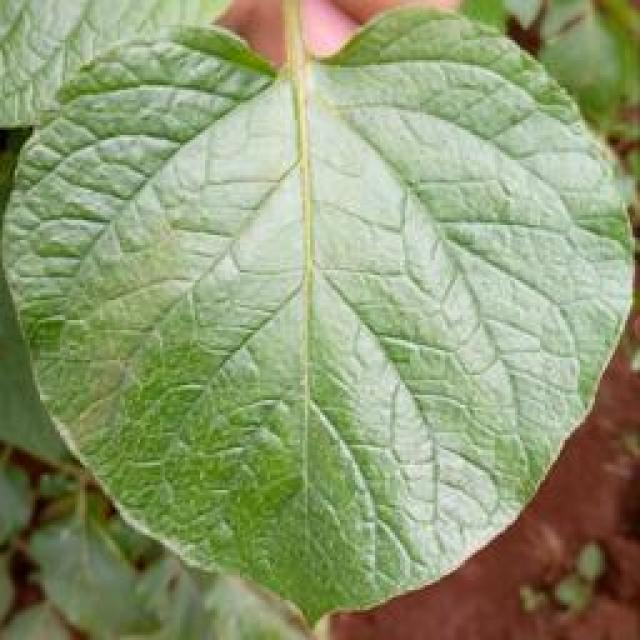healthy: (0, 2, 638, 628)
